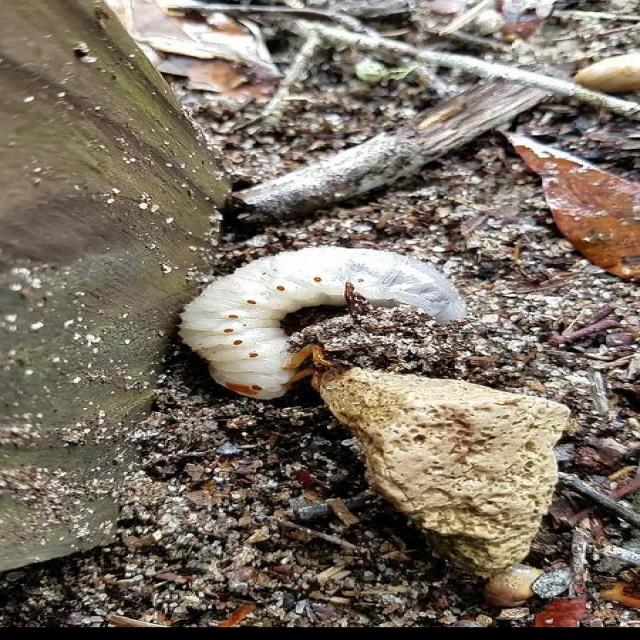Grub-Adult-: (112, 228, 544, 421)
